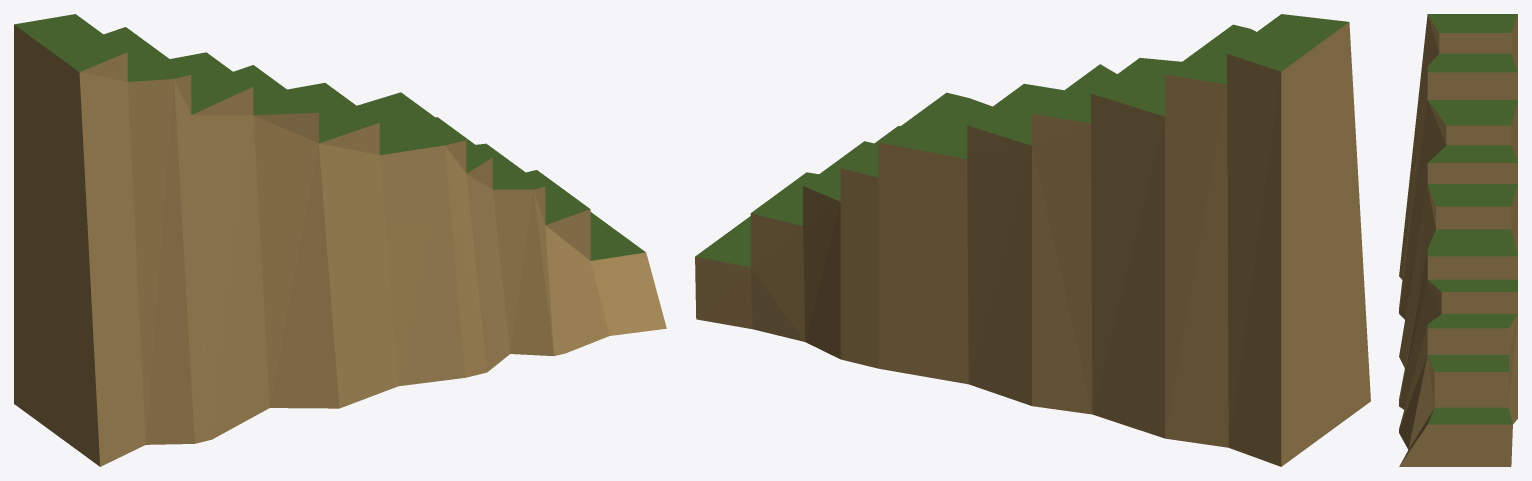
Rendered from Terrain_Modular_Tiles_Grass_Dirt_Stairs_02.fbx.
The picture shows the model from 3 angles, left to right: view 1: azimuth 30°, elevation 25°; view 2: azimuth 150°, elevation 25°; view 3: azimuth 270°, elevation 25°; orthographic projection. The views are drawn at different scales.
Visible parts, largest first — view 1: Terrain_Modular_Tiles_Grass_Dirt_Stairs_02; view 2: Terrain_Modular_Tiles_Grass_Dirt_Stairs_02; view 3: Terrain_Modular_Tiles_Grass_Dirt_Stairs_02.
Part boxes in pixels (x1,y1,x2,y2): Terrain_Modular_Tiles_Grass_Dirt_Stairs_02: (14,14,666,466); Terrain_Modular_Tiles_Grass_Dirt_Stairs_02: (695,14,1370,466); Terrain_Modular_Tiles_Grass_Dirt_Stairs_02: (1399,14,1517,466).
Size of the model in its own units: 3750 by 2400 by 987.
